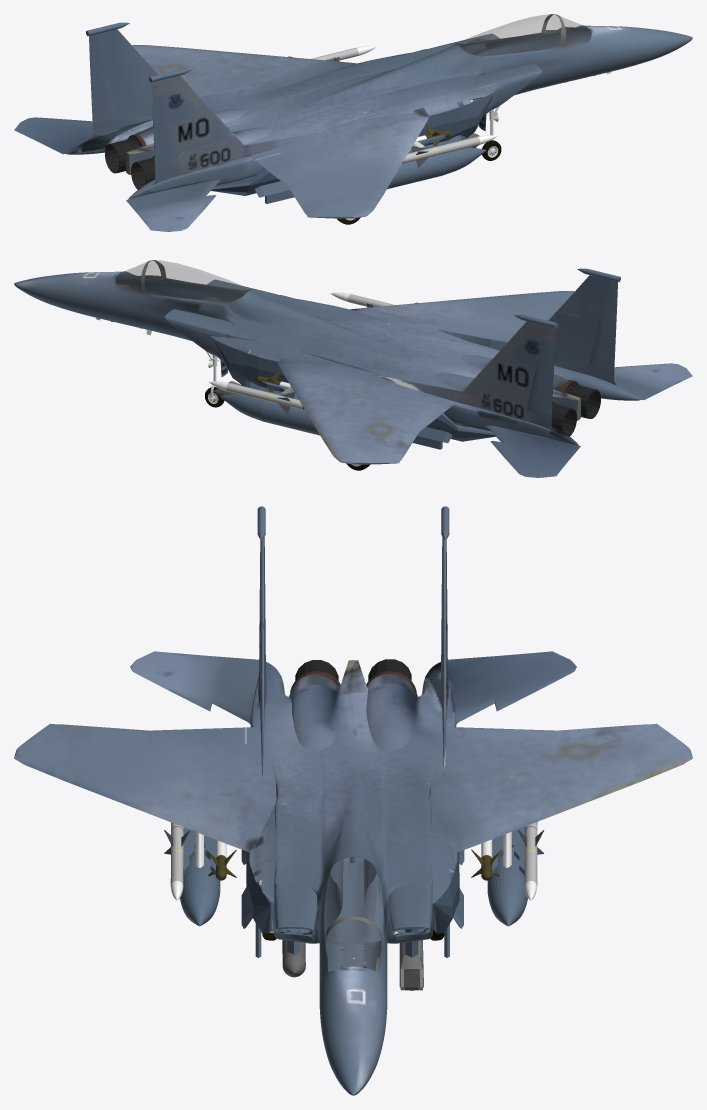
Rendered from mof15e1.glb.
The picture shows the model from 3 angles, top to bottom: view 1: azimuth 30°, elevation 25°; view 2: azimuth 150°, elevation 25°; view 3: azimuth 270°, elevation 25°; orthographic projection. The views are drawn at different scales.
Parts seen in each view (by area): view 1: fuselage, 立方体.015, 円柱, 円柱.006; view 2: fuselage, 立方体.024, 円柱, 円柱.006; view 3: fuselage, 円柱, 円柱.006, 円柱.007, 立方体.015, 円柱.036, 立方体.024.
Part boxes in pixels (x1,y1,x2,y2): fuselage: (14,14,692,231); 立方体.015: (212,94,493,194); 円柱: (387,147,486,189); 円柱.006: (288,46,497,167); fuselage: (14,260,692,477); 立方体.024: (214,340,495,441); 円柱: (220,393,319,435); 円柱.006: (209,292,417,413); fuselage: (14,506,692,1095); 円柱: (180,827,527,926); 円柱.006: (164,822,544,900); 円柱.007: (206,839,502,880); 立方体.015: (246,851,273,933); 円柱.036: (399,940,423,990); 立方体.024: (435,852,459,933).
Bounding box in the file's own units: 17.7 × 5.49 × 11.7.
65 materials, 8 textured.
